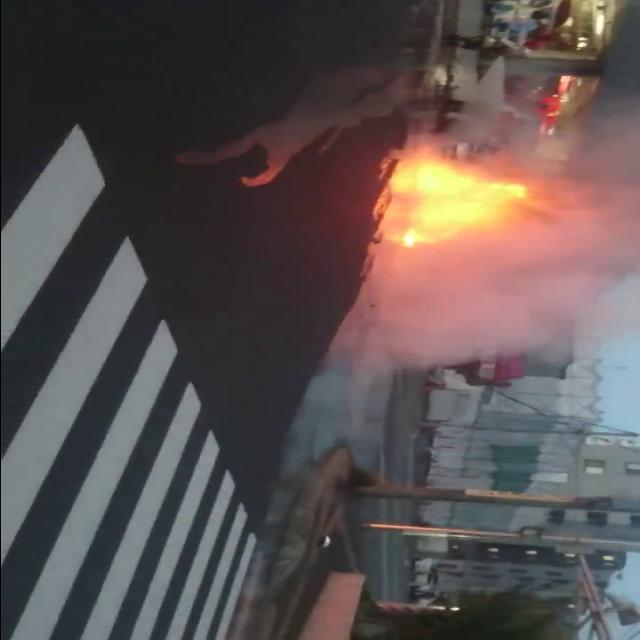Fire: (387, 156, 535, 248)
